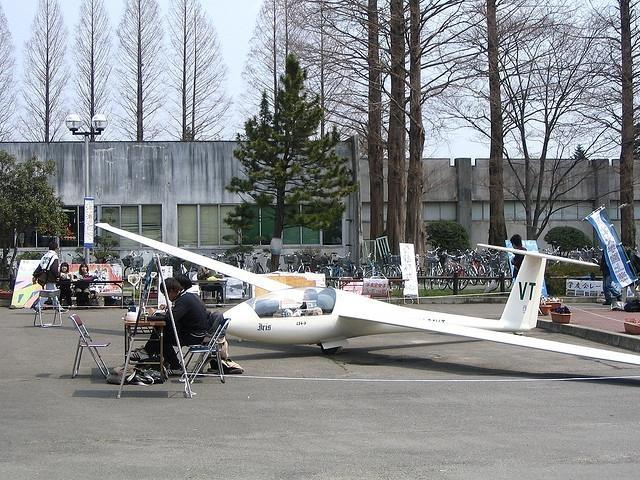bicycle: (424, 248, 448, 290), (446, 252, 470, 290), (478, 250, 499, 291), (352, 264, 403, 280), (458, 249, 479, 286), (320, 252, 338, 288), (291, 250, 312, 274), (335, 253, 355, 277), (358, 251, 382, 271), (280, 253, 295, 274), (442, 252, 454, 274), (504, 268, 512, 288), (456, 256, 467, 270)
